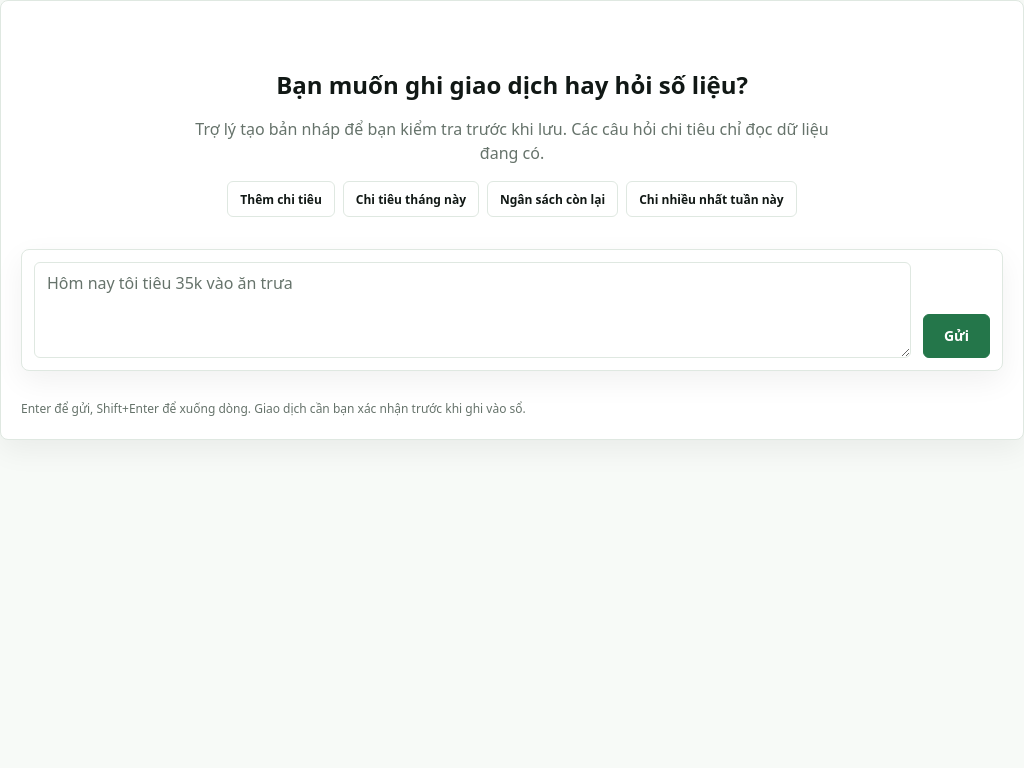
Test case: insight chat UI › does not route analytical spending queries to transaction parsing
The width and height of the screenshot is (1024, 768).
Type "Tháng này tôi ăn uống hết bao nhiêu?" into the text box named "Chat to ledger message" at (472, 310), box [34, 262, 911, 358]
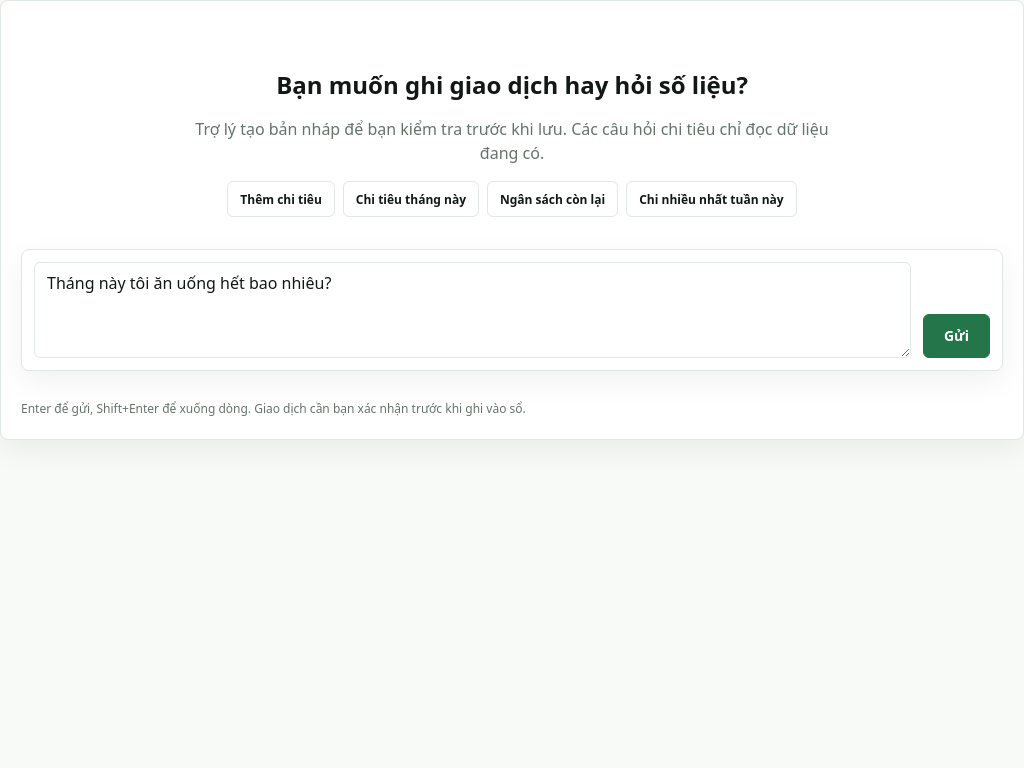
Click the button "Gửi" at (956, 336), box [923, 314, 990, 358]
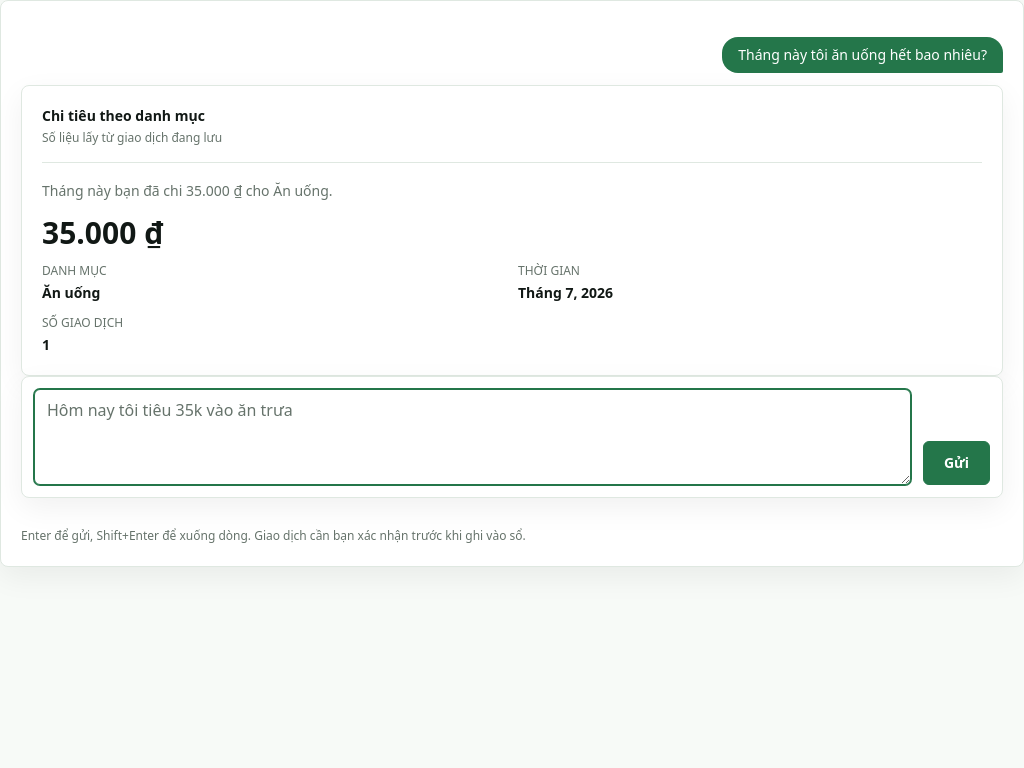
Expected: the heading "Chi tiêu theo danh mục" is shown, [42, 106, 222, 126]
